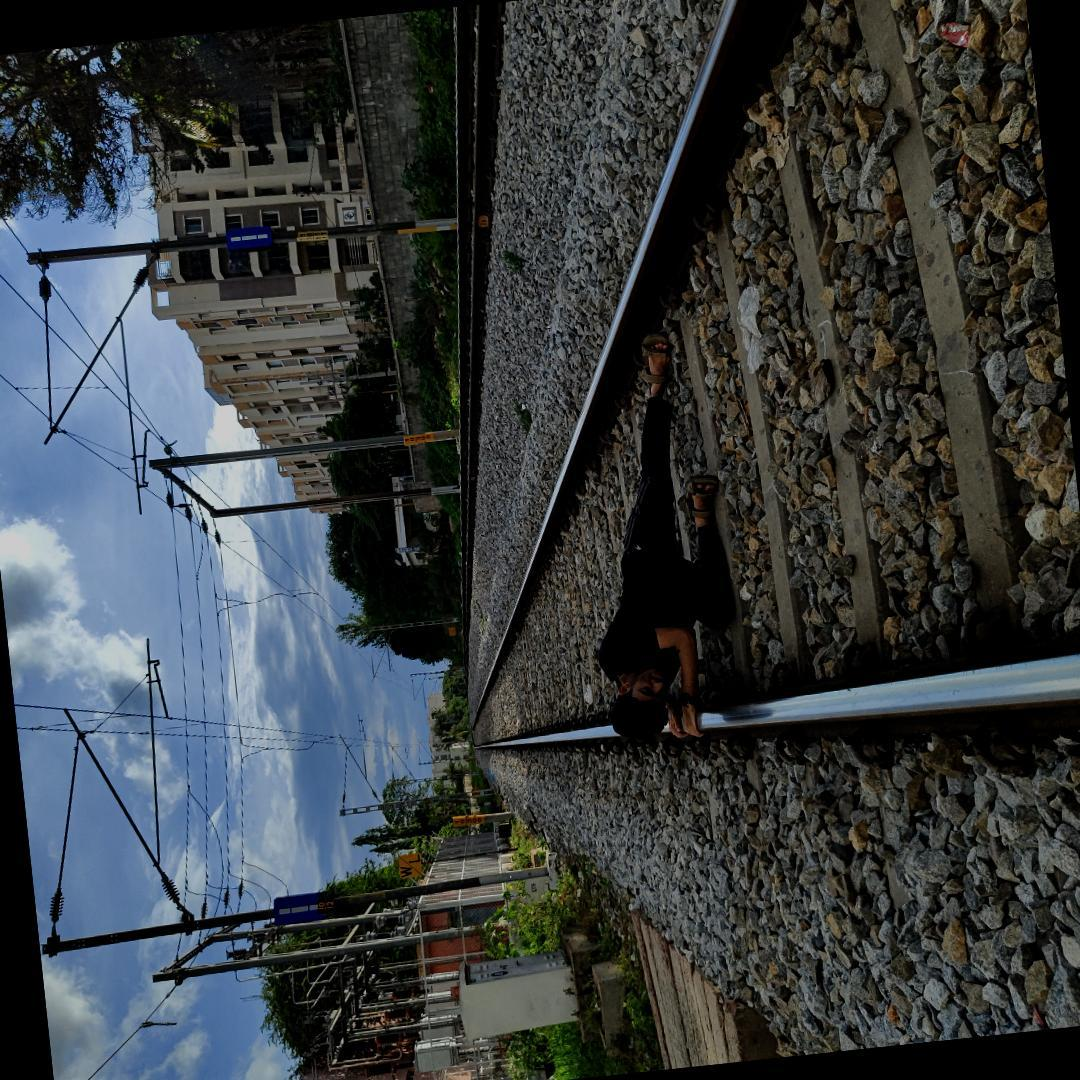sleeping: (568, 323, 755, 758)
